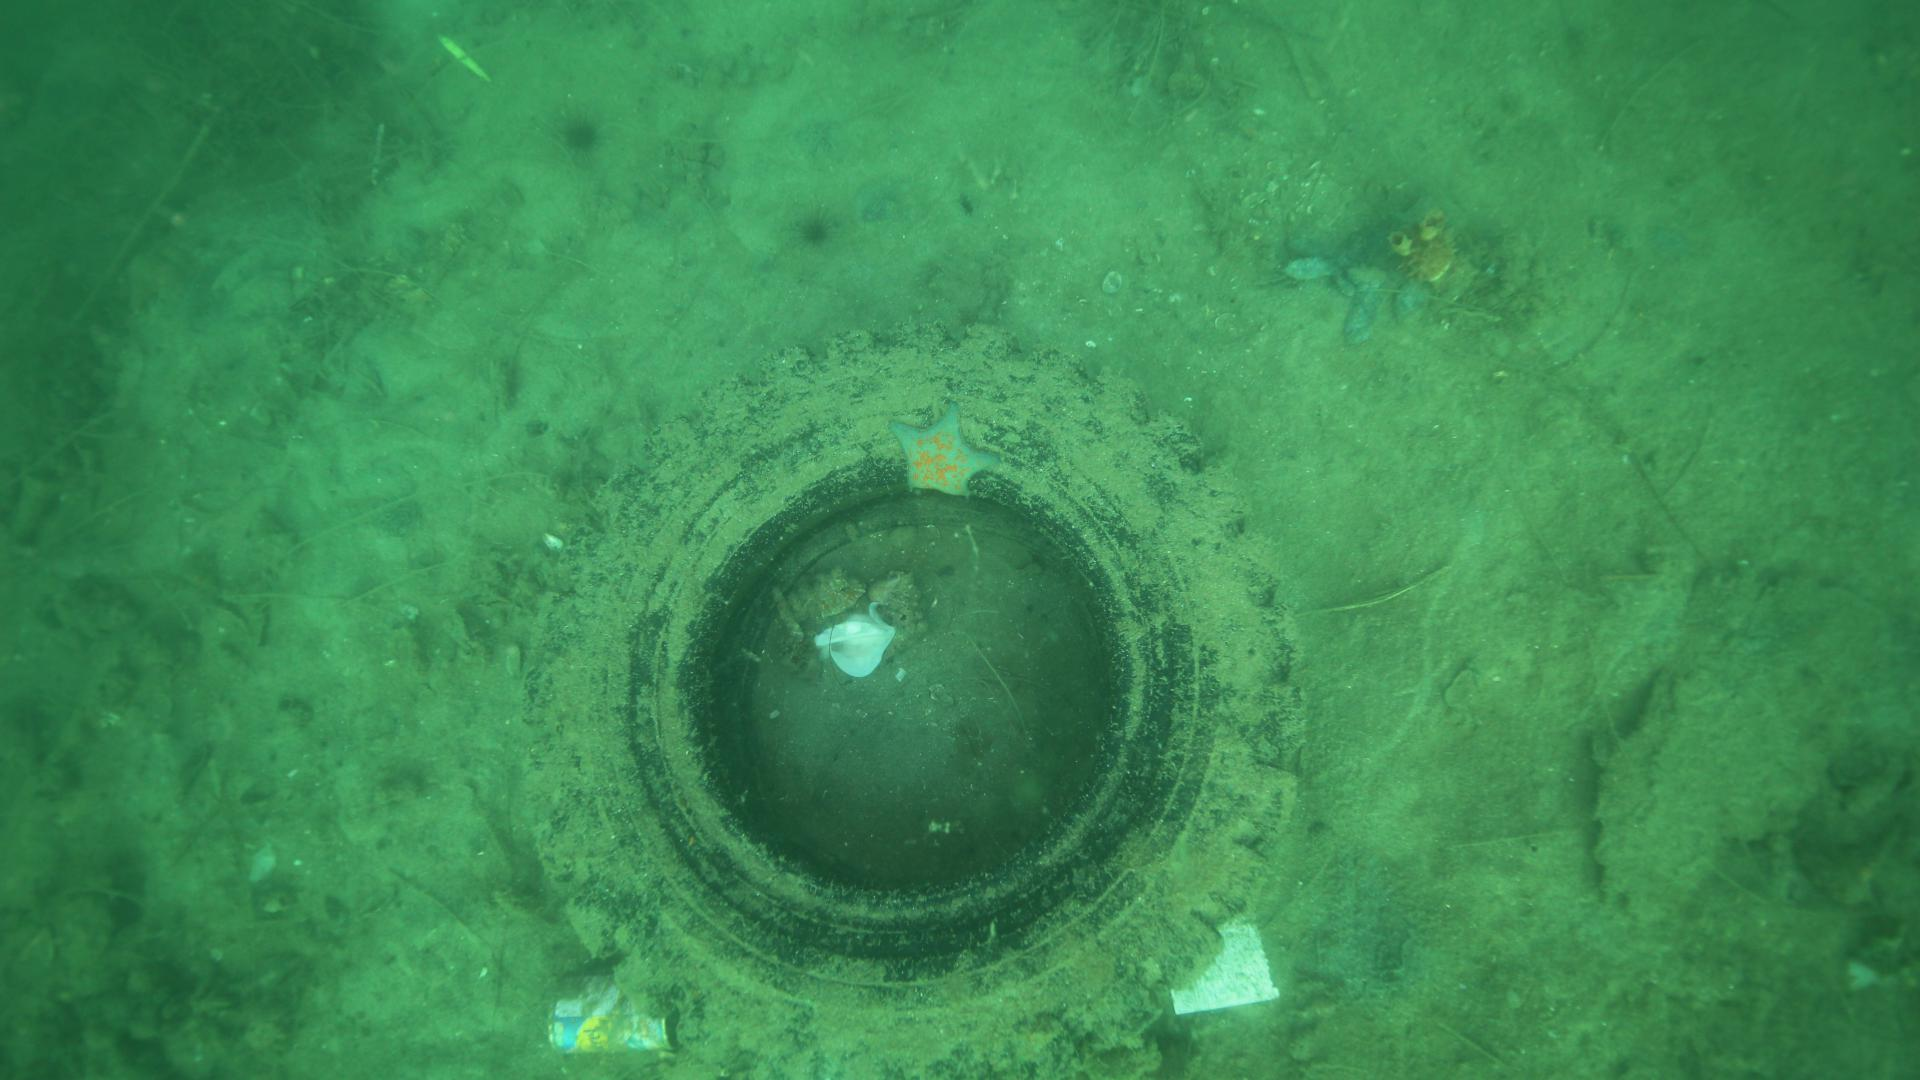tire: (513, 307, 1320, 1080)
